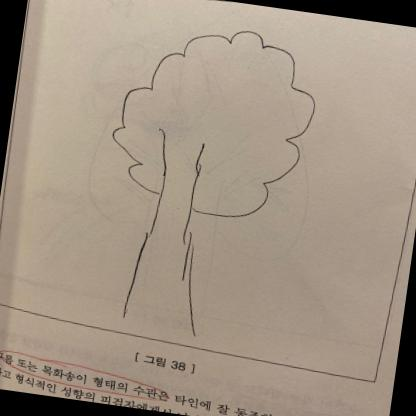crown_cloud: (100, 14, 324, 227)
trunk_straight: (127, 206, 206, 310)
